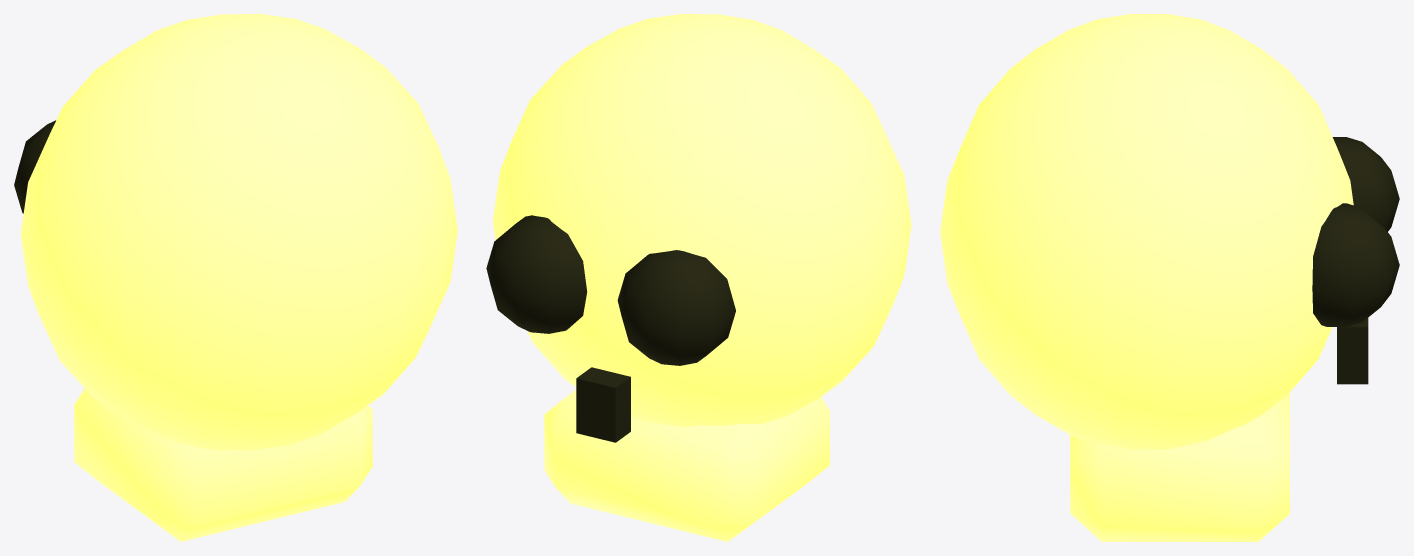
Rendered from pu_instakill.gltf.
3 views of the same model, side by side, from view 1: azimuth 30°, elevation 25°; view 2: azimuth 150°, elevation 25°; view 3: azimuth 270°, elevation 25° (orthographic). The views are drawn at different scales.
Visible parts, largest first — view 1: PU_instakill; view 2: PU_instakill; view 3: PU_instakill.
Part boxes in pixels (box(x1,y1,x2,y2)): PU_instakill: box(14, 14, 457, 541); PU_instakill: box(486, 14, 911, 541); PU_instakill: box(940, 14, 1399, 541).
Bounding box in the file's own units: 0.2757 × 0.33 × 0.293.
